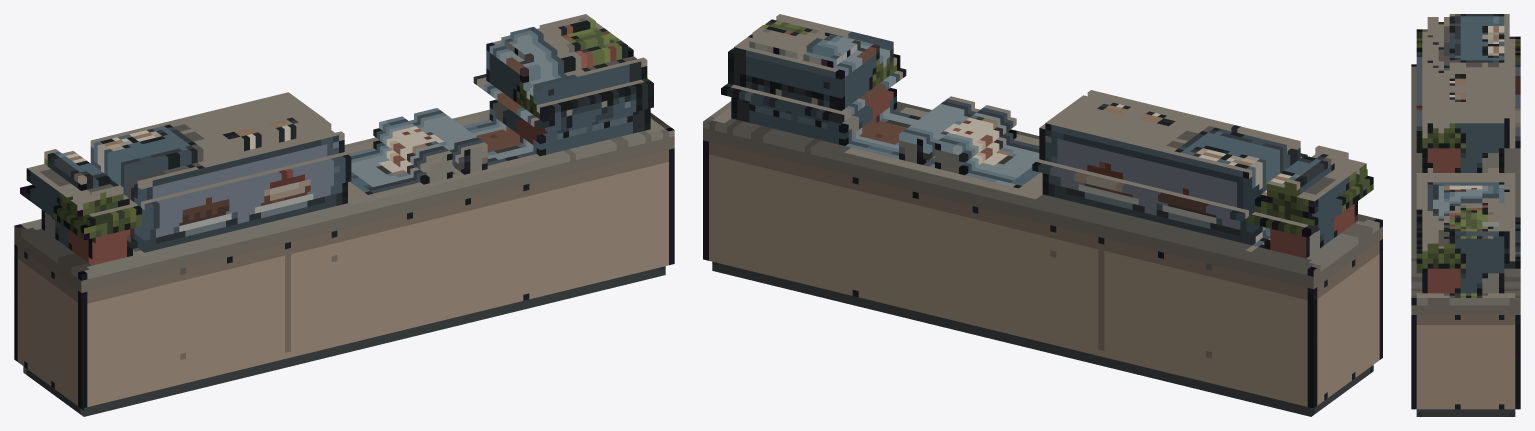
File: city_cafe_counter.glb
The picture shows the model from 3 angles, left to right: view 1: azimuth 30°, elevation 25°; view 2: azimuth 150°, elevation 25°; view 3: azimuth 270°, elevation 25°; orthographic projection. The views are drawn at different scales.
Parts seen in each view (by area): view 1: city_cafe_counter; view 2: city_cafe_counter; view 3: city_cafe_counter.
Part boxes in pixels (box(x1,y1,x2,y2)): city_cafe_counter: box(14, 14, 674, 416); city_cafe_counter: box(703, 14, 1382, 416); city_cafe_counter: box(1411, 14, 1520, 416).
Bounding box in the file's own units: 3.19 × 1.19 × 0.625.
